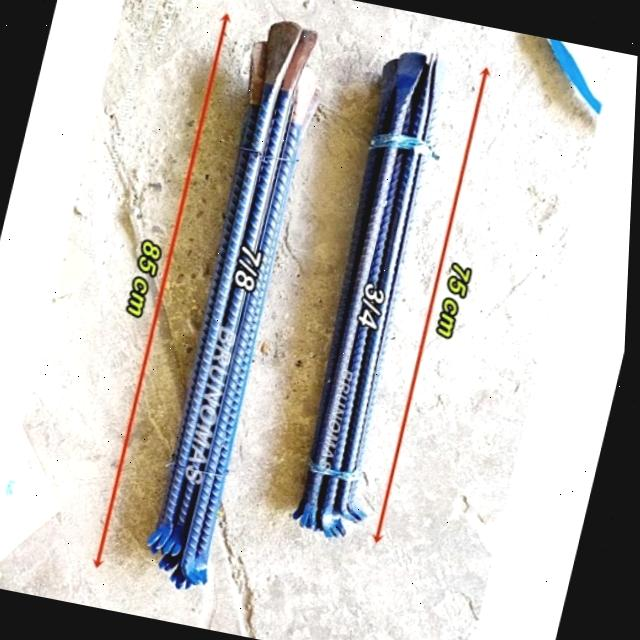crow bar: (172, 35, 331, 583), (296, 49, 426, 536)
